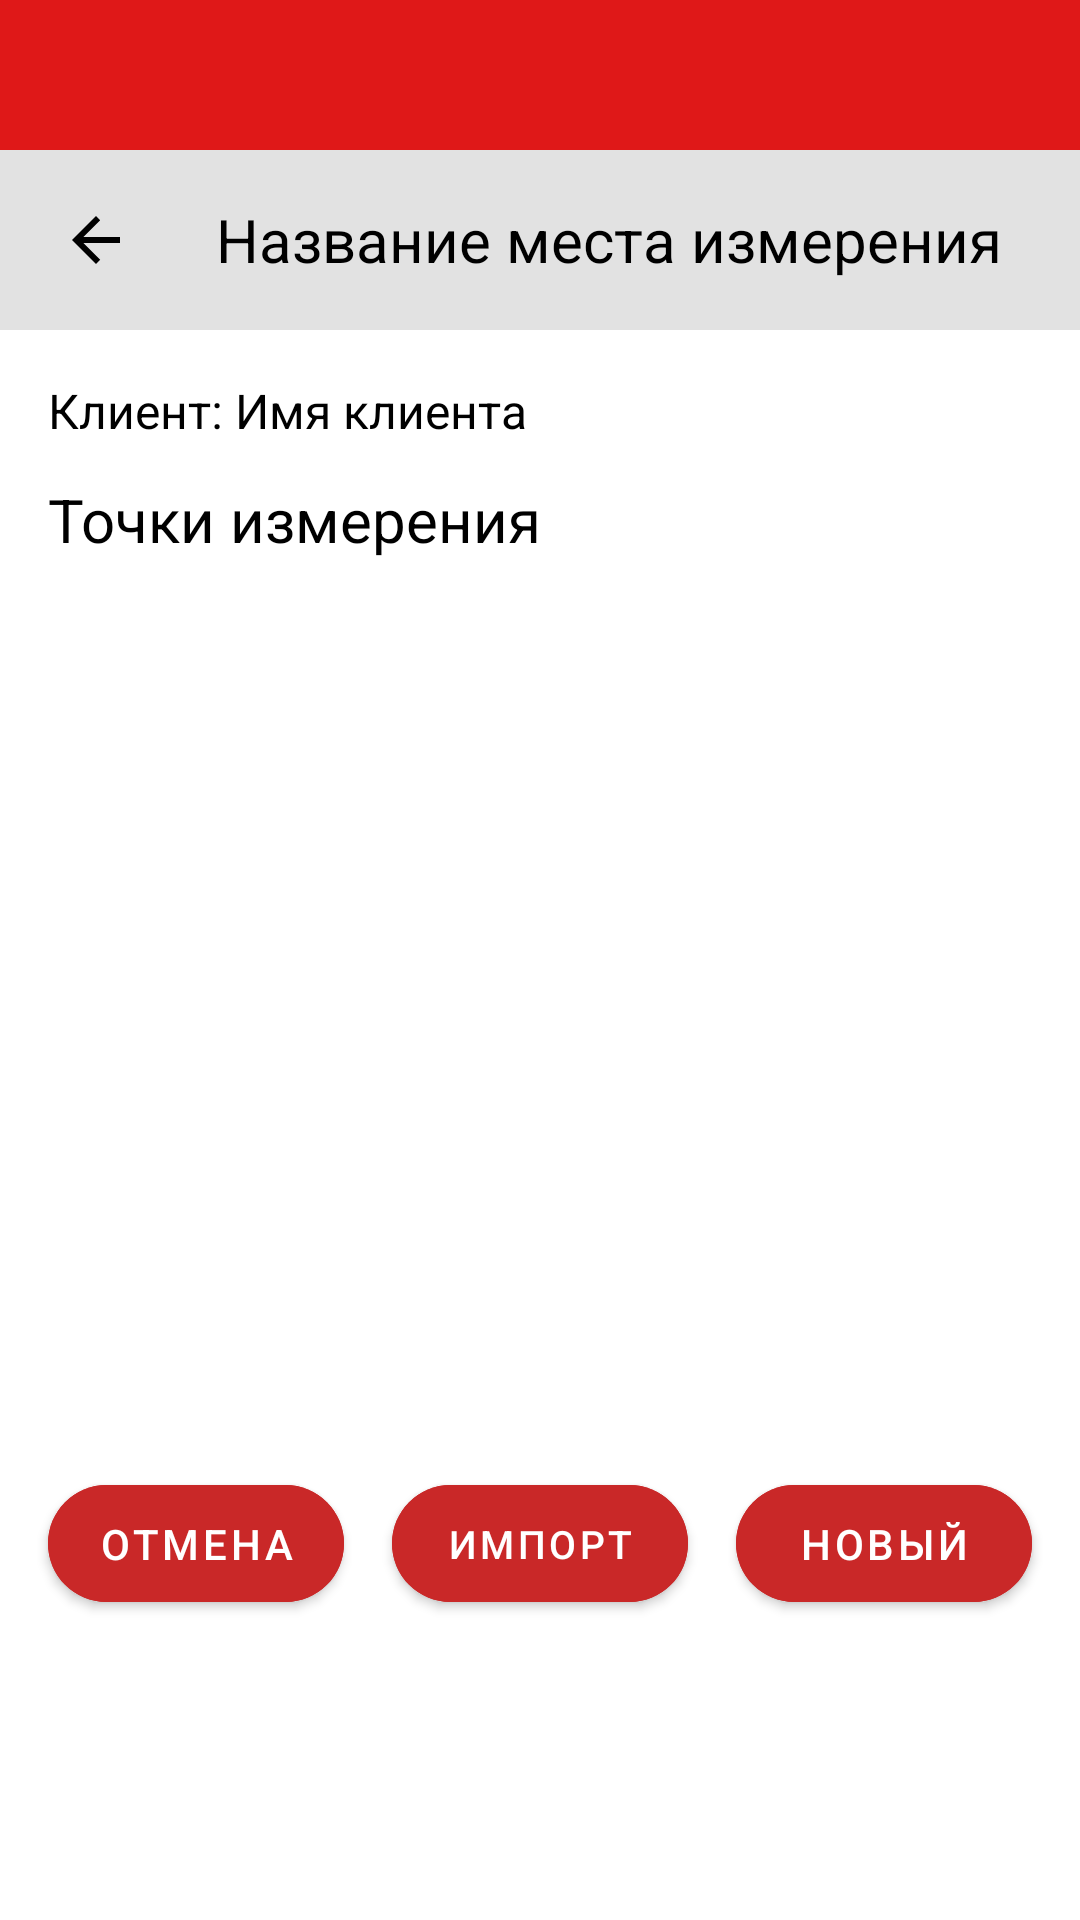

Named icons in this screenshot (1080 × 1920) and their centers, [x,y]:
back to report clients: [96,240]
